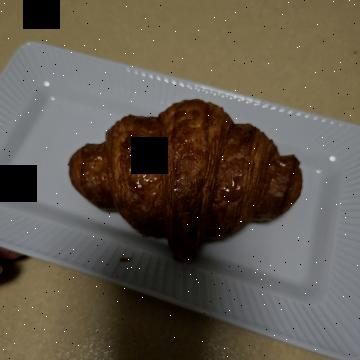croissant: (80, 54, 272, 308)
